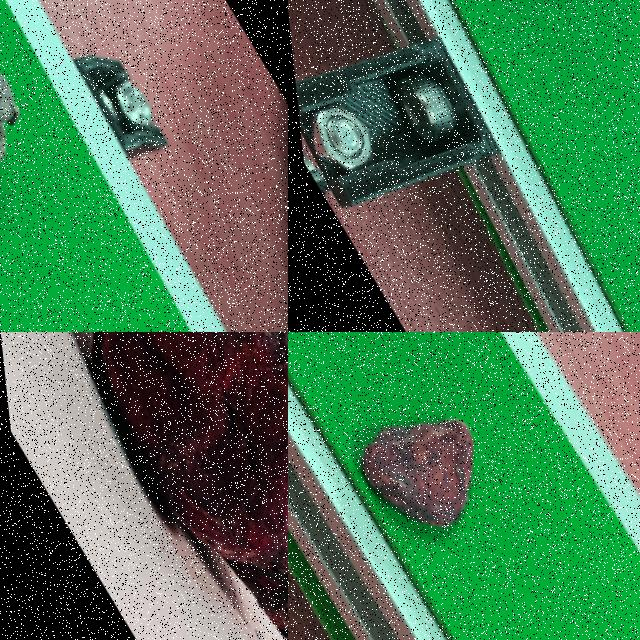Agglomerated_cocoabeans: (0, 332, 287, 639), (0, 0, 132, 326)
Fine_cocoabeans: (393, 0, 639, 89)
Flat_cocoabeans: (288, 332, 590, 639)
